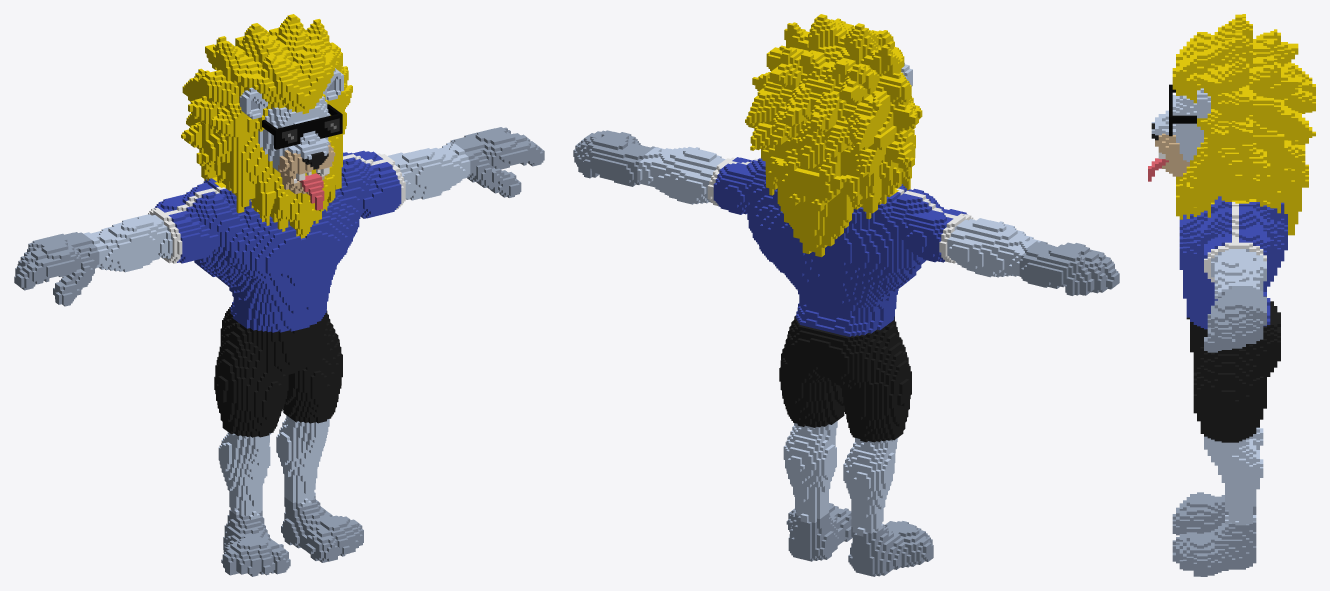
The picture shows the model from 3 angles, left to right: view 1: azimuth 30°, elevation 25°; view 2: azimuth 150°, elevation 25°; view 3: azimuth 270°, elevation 25°; orthographic projection. The views are drawn at different scales.
Parts seen in each view (by area): view 1: tongue_out; view 2: tongue_out; view 3: tongue_out.
Boxes of the visible parts, x1,y1,x2,y2 form: tongue_out: (14, 14, 544, 576); tongue_out: (573, 14, 1119, 576); tongue_out: (1148, 14, 1315, 576).
Size of the model in its own units: 17.2 by 16.5 by 4.8.
5 materials, 5 textured.
